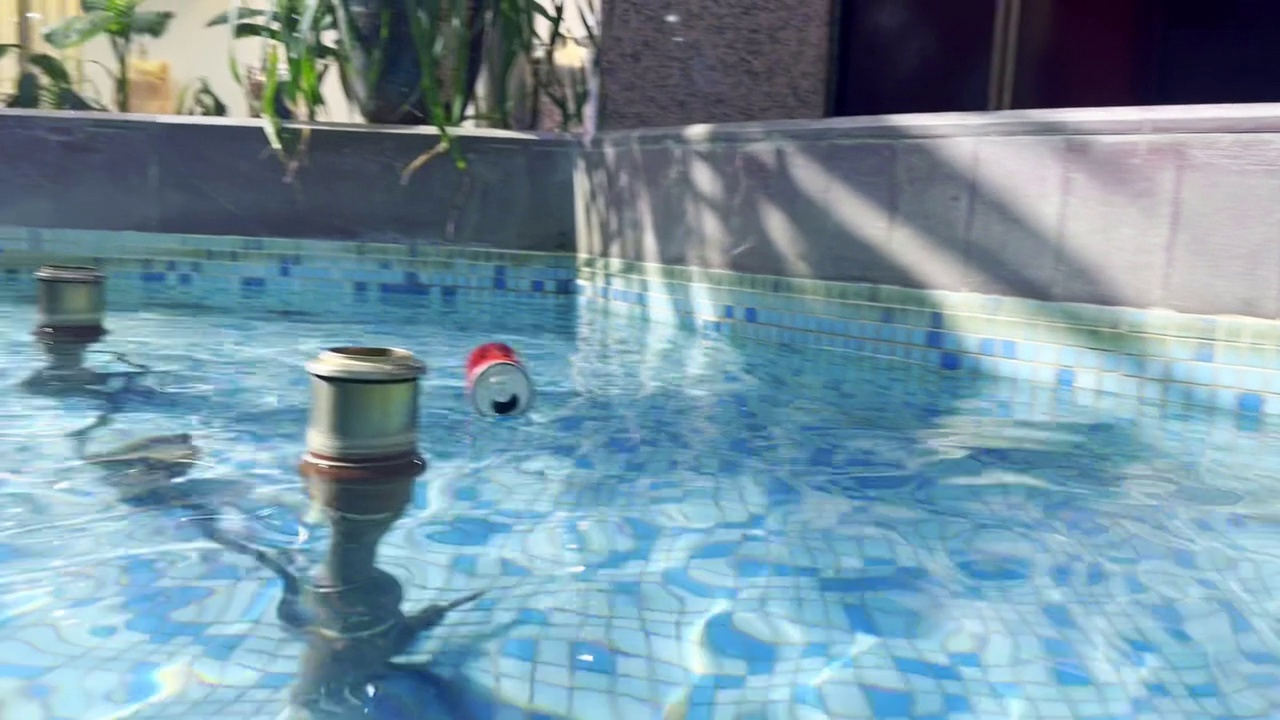debris: (458, 332, 541, 432)
